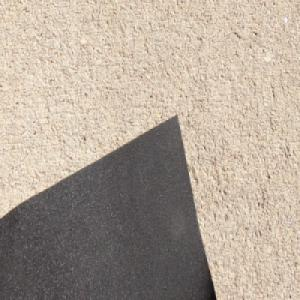PaintChip: (0, 107, 217, 300)
